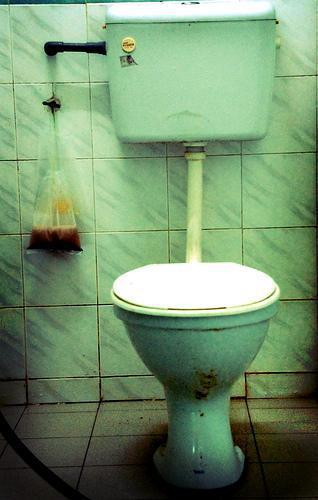Sanitario: (90, 5, 283, 478)
